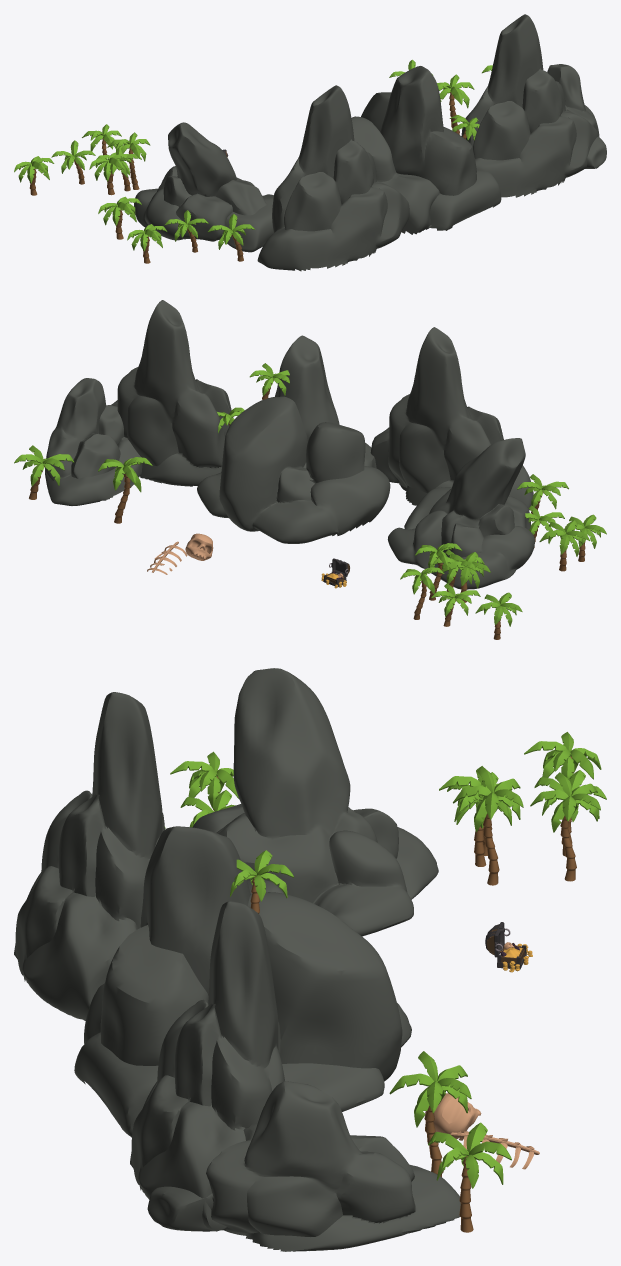
Rendered from Gameboard-2.glb.
The picture shows the model from 3 angles, top to bottom: view 1: azimuth 30°, elevation 25°; view 2: azimuth 150°, elevation 25°; view 3: azimuth 270°, elevation 25°; orthographic projection. The views are drawn at different scales.
Visible parts, largest first — view 1: Environment_Cliff3, Environment_Cliff3.001, Environment_Cliff2, Environment_Cliff4, Environment_Cliff3.002, Environment_PalmTree_3.004, Environment_PalmTree_1.006, Environment_PalmTree_2.004, Environment_PalmTree_1.002, Environment_PalmTree_3.002, Environment_PalmTree_3, Environment_PalmTree_3.003 (+5 smaller); view 2: Environment_Cliff2, Environment_Cliff3.001, Environment_Cliff3, Environment_Cliff4, Environment_Cliff3.002, Environment_PalmTree_2.006, Environment_PalmTree_1.006, Environment_PalmTree_3.004, Environment_PalmTree_3, Environment_PalmTree_3.002, Environment_PalmTree_2.004, Environment_PalmTree_2 (+8 smaller); view 3: Environment_Cliff2, Environment_Cliff4, Environment_Cliff3.002, Environment_Cliff3, Environment_Cliff3.001, Environment_PalmTree_1.006, Environment_PalmTree_2.006, Environment_PalmTree_1.002, Environment_PalmTree_1, Environment_PalmTree_3, Environment_PalmTree_3.003, Environment_PalmTree_2.001 (+5 smaller).
Boxes of the visible parts, left/top/right/bottom form: Environment_Cliff3: left=257, top=85, right=409, bottom=271; Environment_Cliff3.001: left=461, top=14, right=598, bottom=197; Environment_Cliff2: left=351, top=66, right=501, bottom=234; Environment_Cliff4: left=134, top=122, right=273, bottom=252; Environment_Cliff3.002: left=547, top=64, right=606, bottom=168; Environment_PalmTree_3.004: left=98, top=196, right=141, bottom=239; Environment_PalmTree_1.006: left=437, top=74, right=474, bottom=134; Environment_PalmTree_2.004: left=208, top=214, right=254, bottom=261; Environment_PalmTree_1.002: left=107, top=132, right=150, bottom=189; Environment_PalmTree_3.002: left=89, top=152, right=132, bottom=195; Environment_PalmTree_3: left=14, top=156, right=54, bottom=195; Environment_PalmTree_3.003: left=127, top=224, right=167, bottom=263; Environment_Cliff2: left=197, top=335, right=390, bottom=543; Environment_Cliff3.001: left=111, top=300, right=233, bottom=486; Environment_Cliff3: left=370, top=327, right=533, bottom=510; Environment_Cliff4: left=387, top=438, right=534, bottom=589; Environment_Cliff3.002: left=45, top=378, right=142, bottom=505; Environment_PalmTree_2.006: left=14, top=445, right=74, bottom=499; Environment_PalmTree_1.006: left=98, top=457, right=152, bottom=523; Environment_PalmTree_3.004: left=539, top=520, right=589, bottom=571; Environment_PalmTree_3: left=475, top=592, right=522, bottom=639; Environment_PalmTree_3.002: left=440, top=552, right=490, bottom=602; Environment_PalmTree_2.004: left=517, top=474, right=568, bottom=520; Environment_PalmTree_2: left=431, top=583, right=480, bottom=626; Environment_Cliff2: left=74, top=826, right=411, bottom=1137; Environment_Cliff4: left=192, top=668, right=438, bottom=936; Environment_Cliff3.002: left=147, top=1081, right=460, bottom=1251; Environment_Cliff3: left=14, top=692, right=164, bottom=1020; Environment_Cliff3.001: left=130, top=901, right=284, bottom=1231; Environment_PalmTree_1.006: left=389, top=1051, right=471, bottom=1176; Environment_PalmTree_2.006: left=428, top=1122, right=511, bottom=1232; Environment_PalmTree_1.002: left=453, top=766, right=523, bottom=885; Environment_PalmTree_1: left=530, top=772, right=600, bottom=881; Environment_PalmTree_3: left=524, top=732, right=601, bottom=785; Environment_PalmTree_3.003: left=170, top=751, right=239, bottom=810; Environment_PalmTree_2.001: left=230, top=850, right=293, bottom=913.
Bounding box in the file's own units: 38.1 × 13.22 × 21.06.
3 materials, 3 textured.
